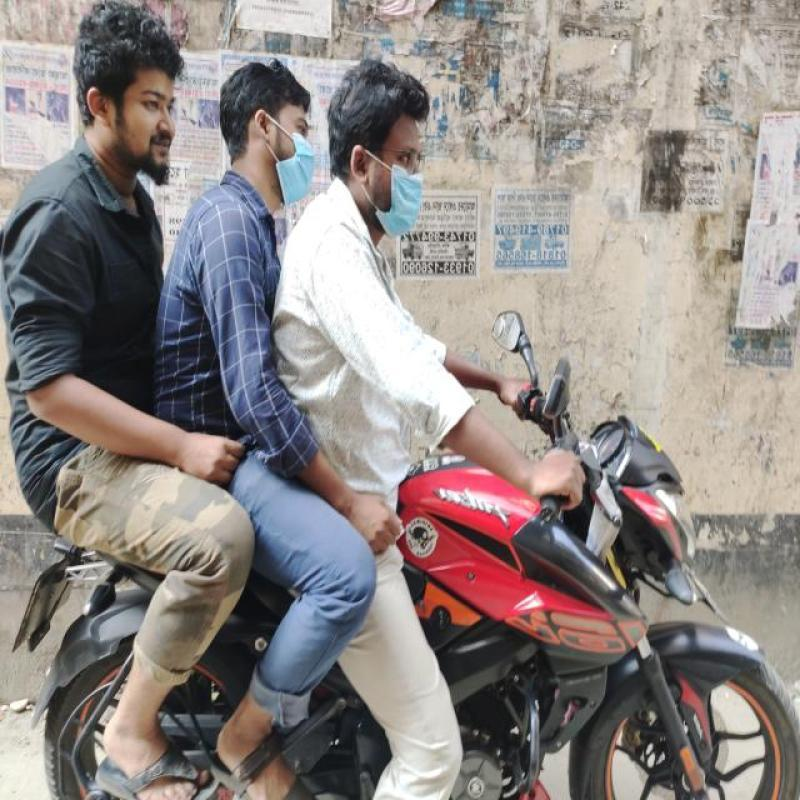nohelmet: (325, 38, 440, 248), (66, 0, 177, 182), (213, 50, 322, 225)
